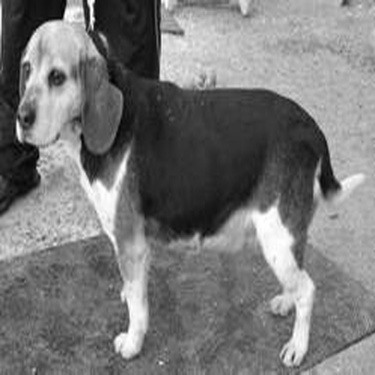dog: (13, 12, 366, 372)
